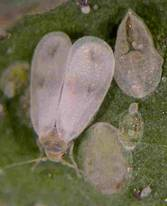whitefly: (25, 30, 117, 177)
